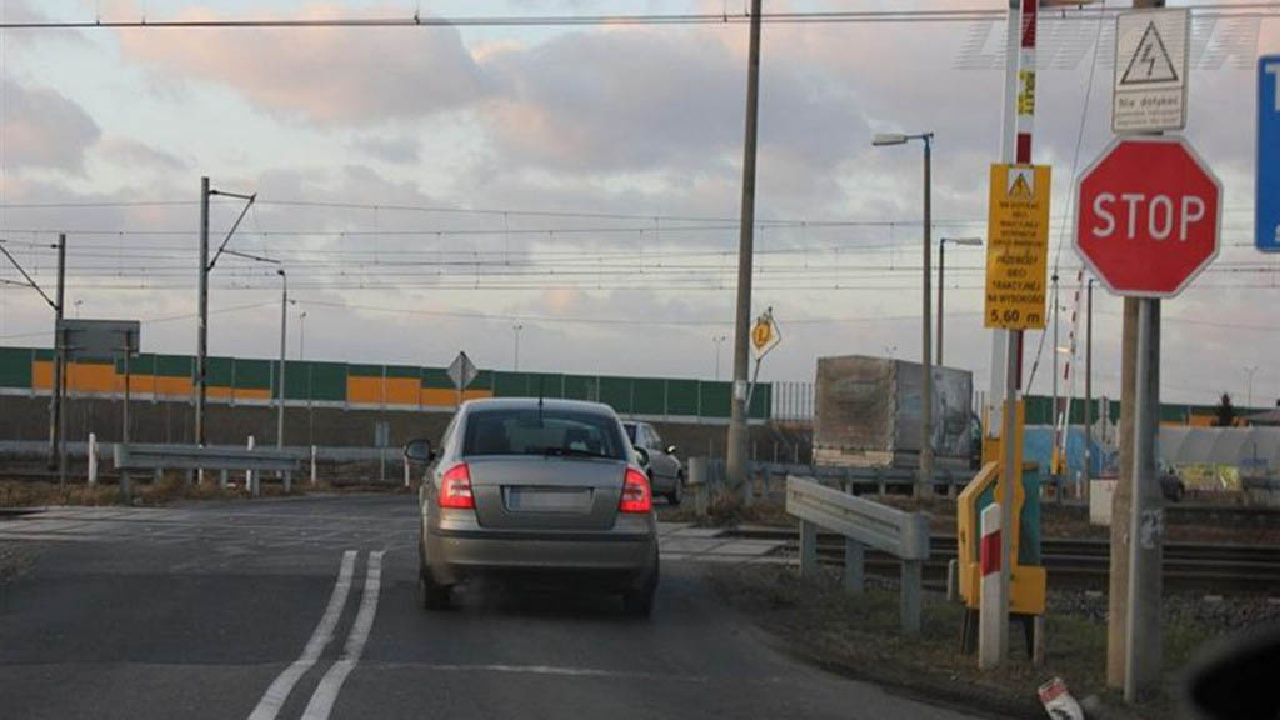B20: (1072, 135, 1225, 299)
